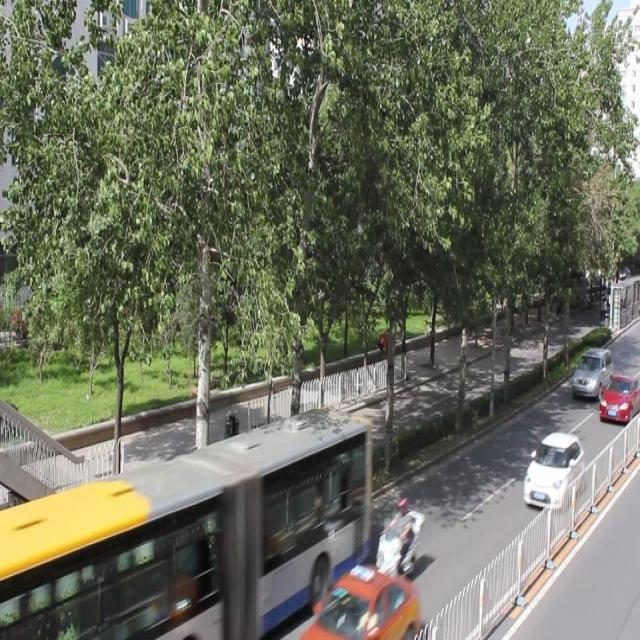car: (300, 565, 417, 640), (522, 431, 583, 509), (568, 347, 612, 398), (598, 374, 640, 425)
van: (1, 418, 369, 640)
